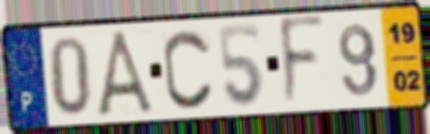0: (46, 35, 94, 118)
5: (216, 20, 267, 111)
9: (336, 21, 379, 98)
A: (94, 27, 161, 117)
C: (161, 26, 216, 112)
F: (277, 12, 328, 113)
